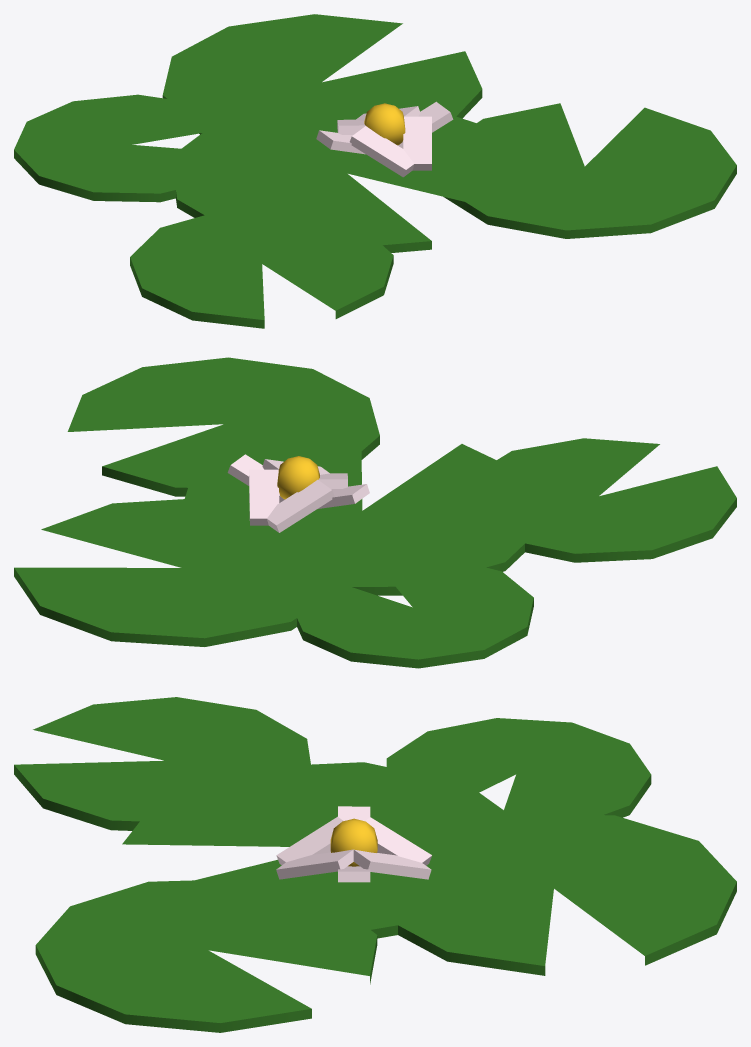
Rendered from water_lily_pads.glb.
The picture shows the model from 3 angles, top to bottom: view 1: azimuth 30°, elevation 25°; view 2: azimuth 150°, elevation 25°; view 3: azimuth 270°, elevation 25°; orthographic projection. The views are drawn at different scales.
Parts seen in each view (by area): view 1: WaterLilies; view 2: WaterLilies; view 3: WaterLilies.
Boxes of the visible parts, bbox=[...] form: WaterLilies: bbox=[14, 14, 736, 328]; WaterLilies: bbox=[14, 357, 736, 668]; WaterLilies: bbox=[14, 697, 736, 1032].
Bounding box in the file's own units: 1.43 × 0.13 × 1.34.
